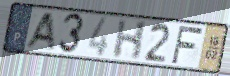2: (143, 22, 172, 64)
3: (55, 12, 87, 56)
4: (86, 15, 111, 59)
A: (23, 12, 56, 51)
F: (170, 24, 205, 65)
H: (110, 19, 149, 62)
